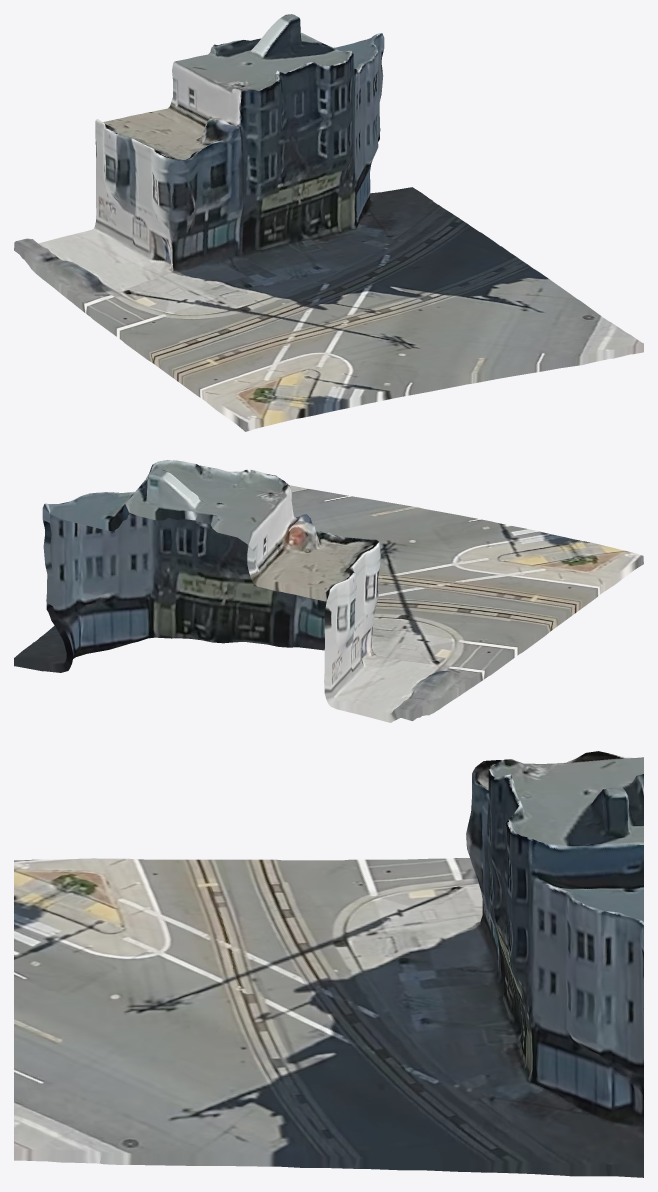
Rendered from z20-167734-405196-h0-yup-uvflip-v3-world.glb.
3 renders of one model, top to bottom at view 1: azimuth 30°, elevation 25°; view 2: azimuth 150°, elevation 25°; view 3: azimuth 270°, elevation 25°, orthographic. The views are drawn at different scales.
Bounding box in the file's own units: 30.2 × 15.92 × 30.32.
Materials: 1 (1 with a texture image).
